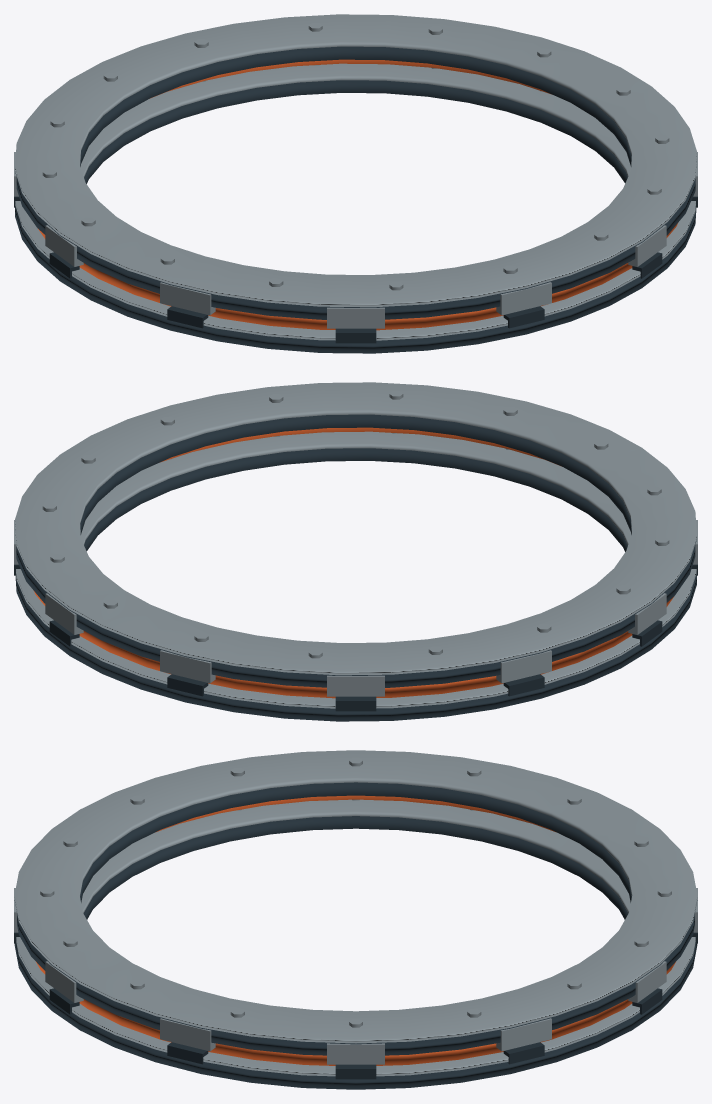
Rendered from o_25_razryv.glb.
The picture shows the model from 3 angles, top to bottom: view 1: azimuth 30°, elevation 25°; view 2: azimuth 150°, elevation 25°; view 3: azimuth 270°, elevation 25°; orthographic projection.
Visible parts, largest first — view 1: o_25_razryv.retained_ring.mesh_JUGRE_·_bead-blasted_titanium, o_25_razryv.release_ring.mesh_JUGRE_·_graphite_composite, o_25_razryv.release_ring.mesh_JUGRE_·_bead-blasted_titanium, o_25_razryv.retained_ring.mesh_JUGRE_·_graphite_composite, o_25_razryv.mesh_JUGRE_·_oxide_orange; view 2: o_25_razryv.retained_ring.mesh_JUGRE_·_bead-blasted_titanium, o_25_razryv.release_ring.mesh_JUGRE_·_graphite_composite, o_25_razryv.release_ring.mesh_JUGRE_·_bead-blasted_titanium, o_25_razryv.retained_ring.mesh_JUGRE_·_graphite_composite, o_25_razryv.mesh_JUGRE_·_oxide_orange; view 3: o_25_razryv.retained_ring.mesh_JUGRE_·_bead-blasted_titanium, o_25_razryv.release_ring.mesh_JUGRE_·_graphite_composite, o_25_razryv.release_ring.mesh_JUGRE_·_bead-blasted_titanium, o_25_razryv.retained_ring.mesh_JUGRE_·_graphite_composite, o_25_razryv.mesh_JUGRE_·_oxide_orange.
Boxes of the visible parts, x1,y1,x2,y2 form: o_25_razryv.retained_ring.mesh_JUGRE_·_bead-blasted_titanium: [14, 14, 697, 328]; o_25_razryv.release_ring.mesh_JUGRE_·_graphite_composite: [14, 80, 697, 353]; o_25_razryv.release_ring.mesh_JUGRE_·_bead-blasted_titanium: [15, 63, 695, 340]; o_25_razryv.retained_ring.mesh_JUGRE_·_graphite_composite: [15, 46, 696, 319]; o_25_razryv.mesh_JUGRE_·_oxide_orange: [38, 59, 677, 330]; o_25_razryv.retained_ring.mesh_JUGRE_·_bead-blasted_titanium: [14, 382, 697, 696]; o_25_razryv.release_ring.mesh_JUGRE_·_graphite_composite: [14, 448, 697, 721]; o_25_razryv.release_ring.mesh_JUGRE_·_bead-blasted_titanium: [16, 431, 696, 708]; o_25_razryv.retained_ring.mesh_JUGRE_·_graphite_composite: [15, 414, 696, 687]; o_25_razryv.mesh_JUGRE_·_oxide_orange: [34, 427, 673, 698]; o_25_razryv.retained_ring.mesh_JUGRE_·_bead-blasted_titanium: [14, 750, 697, 1064]; o_25_razryv.release_ring.mesh_JUGRE_·_graphite_composite: [14, 816, 697, 1089]; o_25_razryv.release_ring.mesh_JUGRE_·_bead-blasted_titanium: [16, 799, 695, 1076]; o_25_razryv.retained_ring.mesh_JUGRE_·_graphite_composite: [14, 782, 697, 1055]; o_25_razryv.mesh_JUGRE_·_oxide_orange: [36, 795, 675, 1065].
Bounding box in the file's own units: 2.51 × 0.22 × 2.51.
